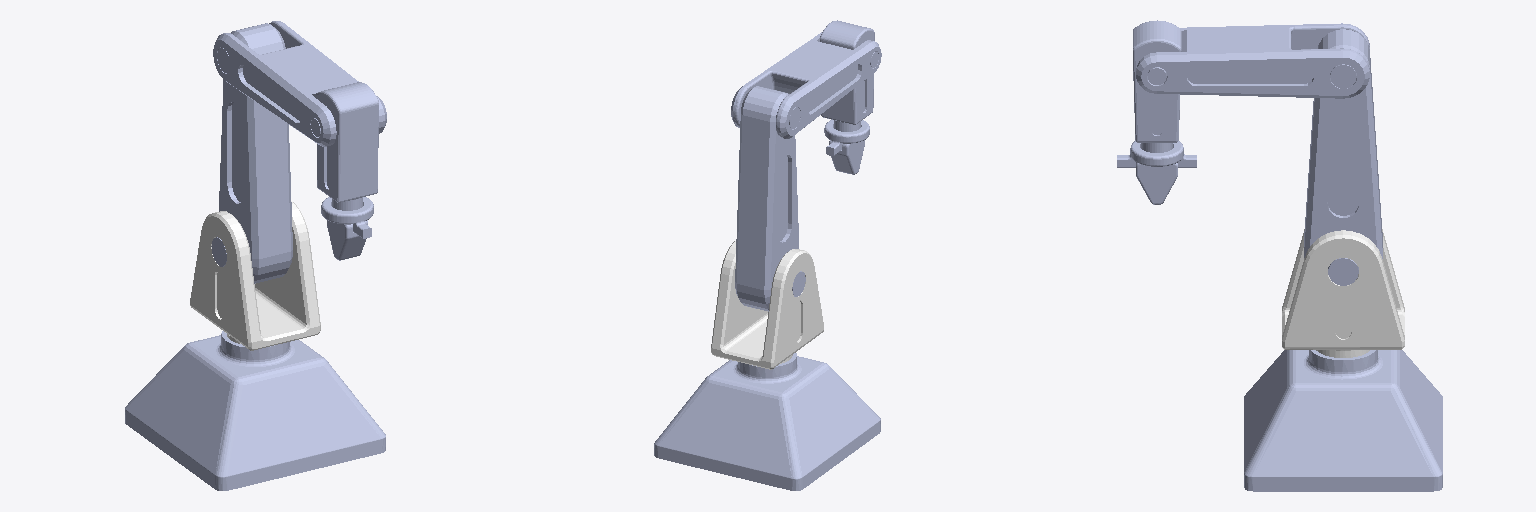
The robot description file, URDF, robot "solid2ROS":
<?xml version="1.0" encoding="utf-8"?>
<!-- This URDF was automatically created by SolidWorks to URDF Exporter! Originally created by [author] ([email redacted]) 
     Commit Version: 1.6.0-4-g7f85cfe  Build Version: 1.6.7995.38578
     For more information, please see http://wiki.ros.org/sw_urdf_exporter -->
<robot
  name="solid2ROS">
  <link
    name="base_link">
    <inertial>
      <origin
        xyz="6.9389E-17 -3.8734E-16 0.073876"
        rpy="0 0 0" />
      <mass
        value="17.147" />
      <inertia
        ixx="0.192"
        ixy="-4.9423E-10"
        ixz="3.2838E-17"
        iyy="0.192"
        iyz="-5.5541E-16"
        izz="0.29544" />
    </inertial>
    <visual>
      <origin
        xyz="0 0 0"
        rpy="0 0 0" />
      <geometry>
        <mesh
          filename="package://solid2ROS/meshes/base_link.STL" />
      </geometry>
      <material
        name="">
        <color
          rgba="0.79216 0.81961 0.93333 1" />
      </material>
    </visual>
    <collision>
      <origin
        xyz="0 0 0"
        rpy="0 0 0" />
      <geometry>
        <mesh
          filename="package://solid2ROS/meshes/base_link.STL" />
      </geometry>
    </collision>
  </link>
  <link
    name="Link_1">
    <inertial>
      <origin
        xyz="-2.5676E-14 7.8987E-11 0.11047"
        rpy="0 0 0" />
      <mass
        value="3.0905" />
      <inertia
        ixx="0.026302"
        ixy="1.4177E-12"
        ixz="-2.5271E-15"
        iyy="0.025388"
        iyz="7.4536E-12"
        izz="0.019632" />
    </inertial>
    <visual>
      <origin
        xyz="0 0 0"
        rpy="-1.5707 0 0" />
      <geometry>
        <mesh
          filename="package://solid2ROS/meshes/Link_1.STL" />
      </geometry>
      <material
        name="">
        <color
          rgba="1 1 1 1" />
      </material>
    </visual>
    <collision>
      <origin
        xyz="0 0 0"
        rpy="-1.5707 0 0" />
      <geometry>
        <mesh
          filename="package://solid2ROS/meshes/Link_1.STL" />
      </geometry>
    </collision>
  </link>
  <joint
    name="Joint_1"
    type="revolute">
    <origin
      xyz="0 0 0.2"
      rpy="1.5708 0 1.5708" />
    <parent
      link="base_link" />
    <child
      link="Link_1" />
    <axis
      xyz="0 1 0" />
    <limit
      lower="0"
      upper="3.142"
      effort="300"
      velocity="3" />
  </joint>
  <link
    name="Link_2">
    <inertial>
      <origin
        xyz="-3.4694E-18 0.16752 -5.6279E-19"
        rpy="0 0 0" />
      <mass
        value="5.5867" />
      <inertia
        ixx="0.12632"
        ixy="3.5867E-18"
        ixz="5.0249E-19"
        iyy="0.011401"
        iyz="6.7098E-18"
        izz="0.12911" />
    </inertial>
    <visual>
      <origin
        xyz="0 0 0"
        rpy="0 0 0" />
      <geometry>
        <mesh
          filename="package://solid2ROS/meshes/Link_2.STL" />
      </geometry>
      <material
        name="">
        <color
          rgba="0.79216 0.81961 0.93333 1" />
      </material>
    </visual>
    <collision>
      <origin
        xyz="0 0 0"
        rpy="0 0 0" />
      <geometry>
        <mesh
          filename="package://solid2ROS/meshes/Link_2.STL" />
      </geometry>
    </collision>
  </link>
  <joint
    name="Joint_2"
    type="revolute">
    <origin
      xyz="0 0.205 0"
      rpy="0 0 0" />
    <parent
      link="Link_1" />
    <child
      link="Link_2" />
    <axis
      xyz="0 0 1" />
    <limit
      lower="-1.57"
      upper="1.57"
      effort="200"
      velocity="3" />
  </joint>
  <link
    name="Link_3">
    <inertial>
      <origin
        xyz="0.178930262066801 -2.22044604925031E-16 -1.02928275371533E-16"
        rpy="0 0 3.141592" />
      <mass
        value="2.82619520391382" />
      <inertia
        ixx="0.00740408211087425"
        ixy="-1.54945966744134E-18"
        ixz="3.6909075064265E-17"
        iyy="0.0285515471738977"
        iyz="3.47356812267738E-10"
        izz="0.0251280922457047" />
    </inertial>
    <visual>
      <origin
        xyz="0 0 0"
        rpy="0 0 3.141592" />
      <geometry>
        <mesh
          filename="package://solid2ROS/meshes/Link_3.STL" />
      </geometry>
      <material
        name="">
        <color
          rgba="0.792156862745098 0.819607843137255 0.933333333333333 1" />
      </material>
    </visual>
    <collision>
      <origin
        xyz="0 0 0"
        rpy="0 0 3.141592" />
      <geometry>
        <mesh
          filename="package://solid2ROS/meshes/Link_3.STL" />
      </geometry>
    </collision>
  </link>
  <joint
    name="Joint_3"
    type="revolute">
    <origin
      xyz="0 0.4 0"
      rpy="0 0 0" />
    <parent
      link="Link_2" />
    <child
      link="Link_3" />
    <axis
      xyz="0 0 1" />
    <limit
      lower="0"
      upper="3.142"
      effort="200"
      velocity="3" />
  </joint>
  <link
    name="Link_4">
    <inertial>
      <origin
        xyz="-0.0516721734345446 -5.55111512312578E-17 -2.79397508924487E-16"
        rpy="0 0 0" />
      <mass
        value="1.80974470730009" />
      <inertia
        ixx="0.00231117416637535"
        ixy="-5.68627638675112E-18"
        ixz="-3.89981354353928E-17"
        iyy="0.00961023623935307"
        iyz="-7.5852462171116E-19"
        izz="0.00939078362141456" />
    </inertial>
    <visual>
      <origin
        xyz="0 0 0"
        rpy="0 0 0" />
      <geometry>
        <mesh
          filename="package://solid2ROS/meshes/Link_4.STL" />
      </geometry>
      <material
        name="">
        <color
          rgba="0.792156862745098 0.819607843137255 0.933333333333333 1" />
      </material>
    </visual>
    <collision>
      <origin
        xyz="0 0 0"
        rpy="0 0 0" />
      <geometry>
        <mesh
          filename="package://solid2ROS/meshes/Link_4.STL" />
      </geometry>
    </collision>
  </link>
  <joint
    name="Joint_4"
    type="revolute">
    <origin
      xyz="-0.35 0 0"
      rpy="0 0 1.5708" />
    <parent
      link="Link_3" />
    <child
      link="Link_4" />
    <axis
      xyz="0 0 1" />
    <limit
      lower="0"
      upper="-3.142"
      effort="200"
      velocity="3" />
  </joint>
  <link
    name="Link_5">
    <inertial>
      <origin
        xyz="0 4.10936282126392E-17 0.00654388120672444"
        rpy="0 -1.5707 0" />
      <mass
        value="0.190534239699016" />
      <inertia
        ixx="0.000228167325721982"
        ixy="1.96636695190795E-11"
        ixz="-4.20929595481781E-20"
        iyy="0.000118429273152252"
        iyz="-2.39301170186938E-20"
        izz="0.00030196507003955" />
    </inertial>
    <visual>
      <origin
        xyz="0 0 0"
        rpy="0 -1.5707 0" />
      <geometry>
        <mesh
          filename="package://solid2ROS/meshes/Link_5.STL" />
      </geometry>
      <material
        name="">
        <color
          rgba="0.792156862745098 0.819607843137255 0.933333333333333 1" />
      </material>
    </visual>
    <collision>
      <origin
        xyz="0 0 0"
        rpy="0 -1.5707 0" />
      <geometry>
        <mesh
          filename="package://solid2ROS/meshes/Link_5.STL" />
      </geometry>
    </collision>
  </link>
  <joint
    name="Joint_5"
    type="revolute">
    <origin
      xyz="-0.188 0 0"
      rpy="0 0 0" />
    <parent
      link="Link_4" />
    <child
      link="Link_5" />
    <axis
      xyz="1 0 0" />
    <limit
      lower="0"
      upper="3.142"
      effort="200"
      velocity="3" />
  </joint>
  <link
    name="Link_6">
    <inertial>
      <origin
        xyz="0 4.10936282126392E-17 0.00654388120672444"
        rpy="0 0 0" />
      <mass
        value="0.11653" />
      <inertia
        ixx="7.1189E-05"
        ixy="5.9471E-20"
        ixz="2.0987E-20"
        iyy="8.4875E-05"
        iyz="-1.0258E-05"
        izz="3.9246E-05" />
    </inertial>
    <visual>
      <origin
        xyz="0 0 0"
        rpy="0 -1.5707 0" />
      <geometry>
        <mesh
          filename="package://solid2ROS/meshes/Link_6.STL" />
      </geometry>
      <material
        name="">
        <color
          rgba="0.79216 0.81961 0.93333 1" />
      </material>
    </visual>
    <collision>
      <origin
        xyz="0 0 0"
        rpy="0 -1.5707 0" />
      <geometry>
        <mesh
          filename="package://solid2ROS/meshes/Link_6.STL" />
      </geometry>
    </collision>
  </link>
  <joint
    name="Joint_6"
    type="prismatic">
    <origin
      xyz="0 0 0"
      rpy="0 0 0" />
    <parent
      link="Link_5" />
    <child
      link="Link_6" />
    <axis
      xyz="0 1 0" />
    <limit
      lower="0"
      upper="-0.03"
      effort="100"
      velocity="3" />
  </joint>
  <link
    name="Link_7">
    <inertial>
      <origin
        xyz="0 0.016013 0.050369"
        rpy="0 0 0" />
      <mass
        value="0.11653" />
      <inertia
        ixx="7.1189E-05"
        ixy="3.7951E-20"
        ixz="-6.8974E-20"
        iyy="8.4875E-05"
        iyz="1.0258E-05"
        izz="3.9246E-05" />
    </inertial>
    <visual>
      <origin
        xyz="0 0 0"
        rpy="0 -1.5707 0" />
      <geometry>
        <mesh
          filename="package://solid2ROS/meshes/Link_7.STL" />
      </geometry>
      <material
        name="">
        <color
          rgba="0.79216 0.81961 0.93333 1" />
      </material>
    </visual>
    <collision>
      <origin
        xyz="0 0 0"
        rpy="0 -1.5707 0" />
      <geometry>
        <mesh
          filename="package://solid2ROS/meshes/Link_7.STL" />
      </geometry>
    </collision>
  </link>
  <joint
    name="Joint_7"
    type="prismatic">
    <origin
      xyz="0 0 0"
      rpy="0 0 0" />
    <parent
      link="Link_5" />
    <child
      link="Link_7" />
    <axis
      xyz="0 1 0" />
    <limit
      lower="0"
      upper="0.03"
      effort="100"
      velocity="3" />
  </joint>
</robot>

--- Render facts (derived) ---
Views: 3 orthographic renders of the robot side by side, from view 1: azimuth 30°, elevation 25°; view 2: azimuth 150°, elevation 25°; view 3: azimuth 270°, elevation 25°.
Model solid2ROS with 8 links and 7 joints (5 revolute, 2 prismatic), rooted at base_link, posed all joints at 0.
Visible links, largest first — view 1: base_link, Link_2, Link_1, Link_3, Link_4, Link_5, Link_7; view 2: base_link, Link_2, Link_1, Link_3, Link_4, Link_5, Link_6; view 3: base_link, Link_3, Link_1, Link_2, Link_4, Link_5, Link_6, Link_7.
Link boxes in pixels (left/top/right/bottom): base_link: left=125, top=331, right=385, bottom=490; Link_2: left=211, top=23, right=292, bottom=283; Link_1: left=190, top=201, right=320, bottom=350; Link_3: left=213, top=21, right=386, bottom=146; Link_4: left=311, top=82, right=378, bottom=210; Link_5: left=321, top=197, right=373, bottom=238; Link_7: left=336, top=220, right=367, bottom=260; base_link: left=654, top=353, right=880, bottom=490; Link_2: left=735, top=86, right=805, bottom=311; Link_1: left=711, top=241, right=823, bottom=369; Link_3: left=731, top=32, right=881, bottom=138; Link_4: left=820, top=20, right=878, bottom=131; Link_5: left=824, top=120, right=869, bottom=155; Link_6: left=829, top=140, right=856, bottom=174; base_link: left=1244, top=350, right=1442, bottom=491; Link_3: left=1136, top=23, right=1369, bottom=98; Link_1: left=1282, top=229, right=1404, bottom=357; Link_2: left=1304, top=29, right=1382, bottom=285; Link_4: left=1133, top=20, right=1181, bottom=152; Link_5: left=1117, top=141, right=1196, bottom=167; Link_6: left=1157, top=163, right=1177, bottom=204; Link_7: left=1136, top=162, right=1156, bottom=204.
Size in the robot's own frame: 0.3732 by 0.6116 by 0.87 metres.
8 mesh visuals loaded from 8 distinct referenced files (8 binary STL).